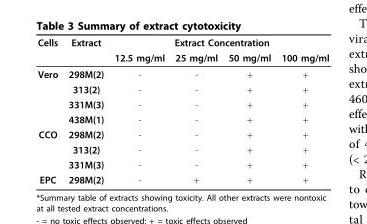table: (36, 36, 328, 185)
table column: (108, 36, 169, 185), (169, 36, 222, 185), (222, 36, 275, 185), (275, 36, 328, 185), (62, 36, 108, 185), (36, 36, 62, 185)
table column header: (36, 36, 328, 65)
table row: (36, 49, 328, 65), (36, 65, 328, 81), (36, 81, 328, 96), (36, 96, 328, 111), (36, 111, 328, 126), (36, 126, 328, 141), (36, 141, 328, 156), (36, 156, 328, 171), (36, 171, 328, 185), (36, 36, 328, 49)
table spanning cell: (108, 36, 328, 49), (36, 65, 62, 126), (62, 36, 108, 65), (36, 126, 62, 171), (36, 36, 62, 65)
